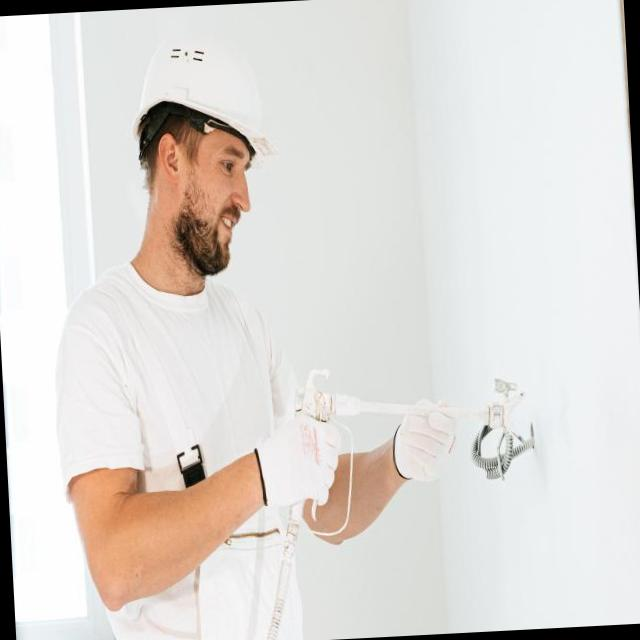Gloves: (255, 392, 354, 524), (391, 388, 470, 490)
Helmet: (134, 22, 284, 165)
